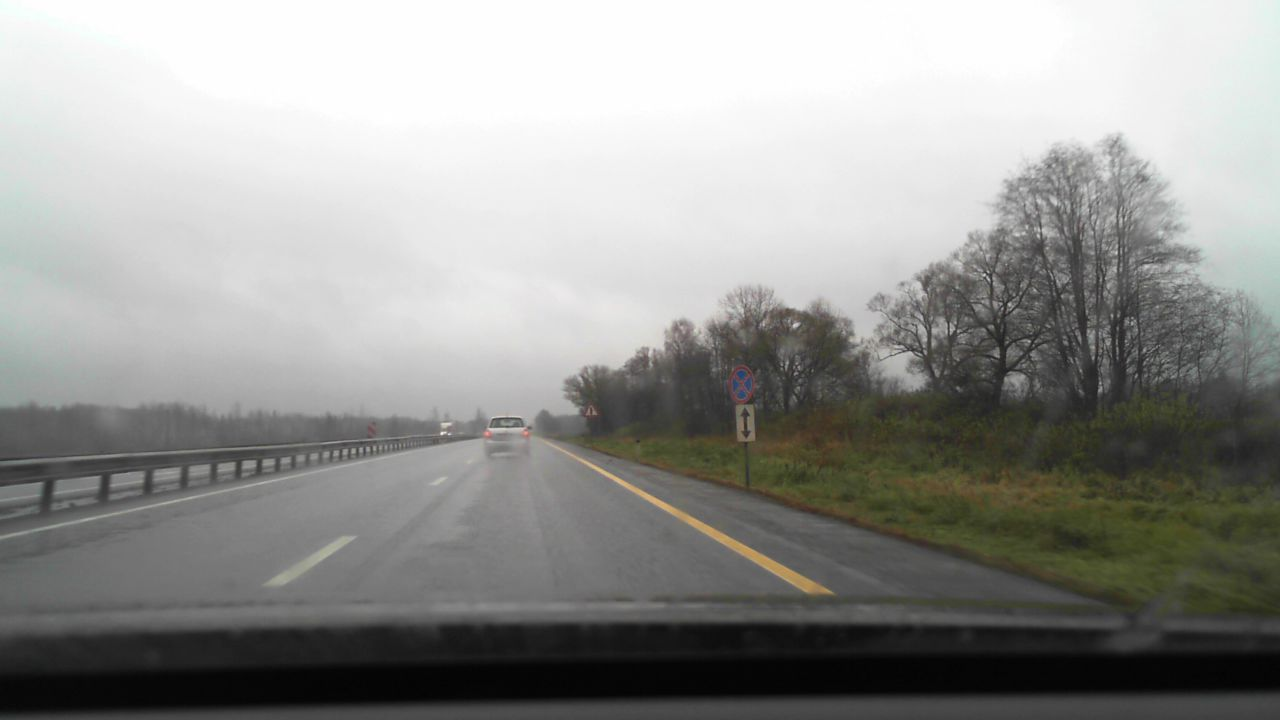No Parking: (727, 365, 755, 402)
